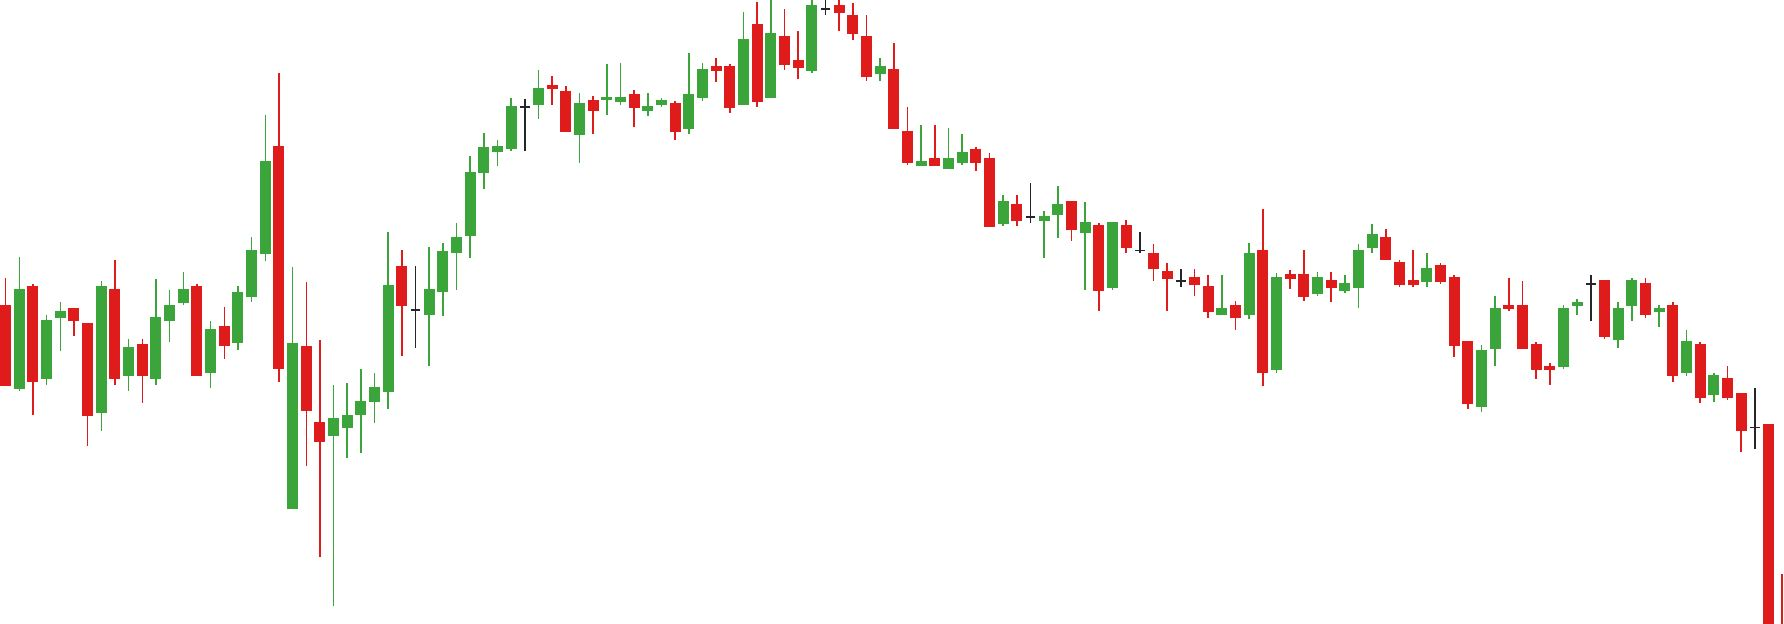buy: (1255, 280, 1489, 414)
